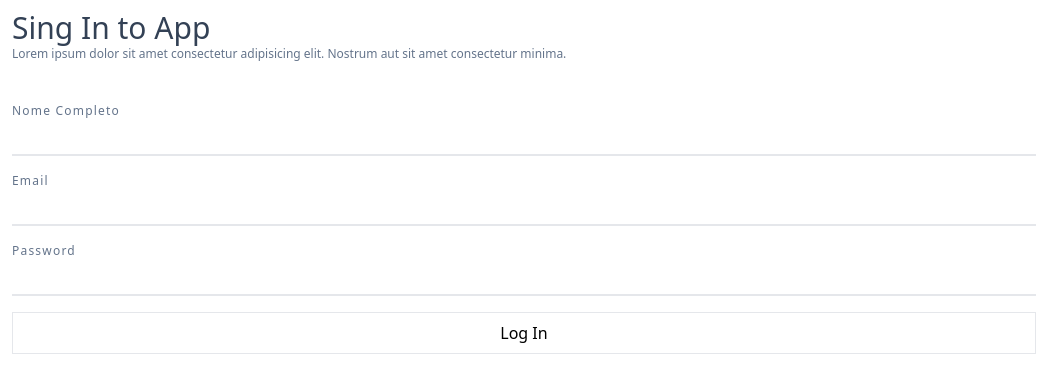
it: Register › should display matching error when name required
In the field labelled "Email": {"x": 524, "y": 208} [12,190,1036,226], type "test@test.com"
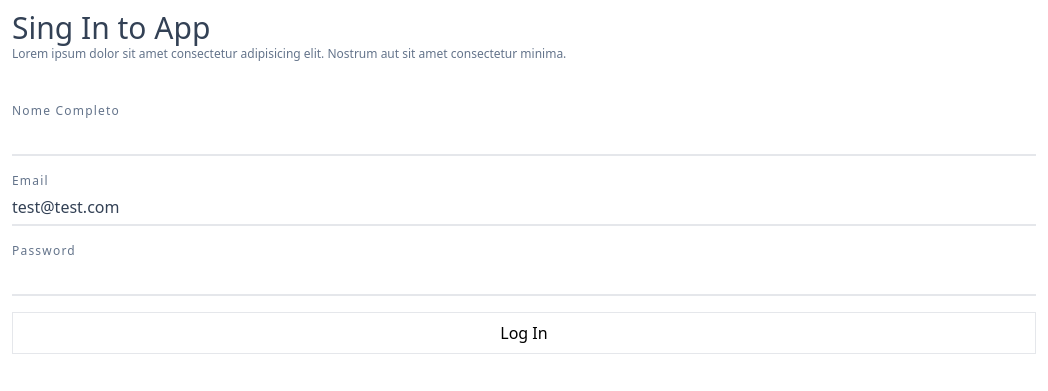
In the password field labelled "Password": {"x": 524, "y": 278} [12,260,1036,296], type "password"
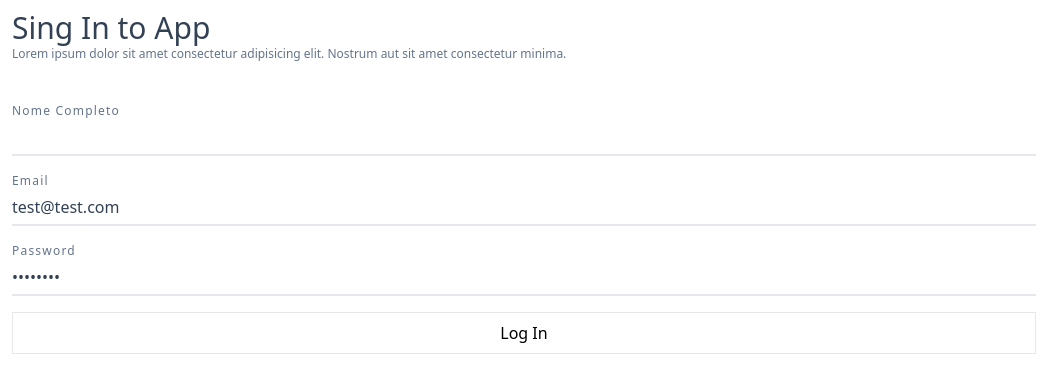
Submit the form from the button, box [12,312,1036,354]
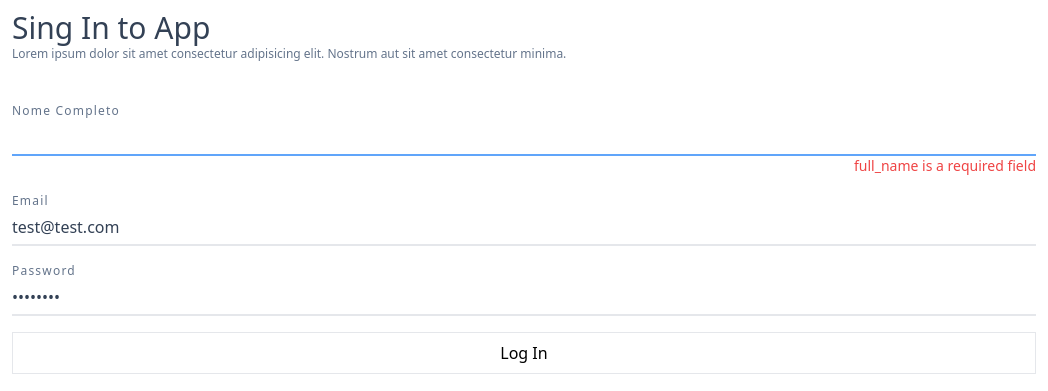
Result: the number of messages is 1 at [854,156,1036,175]
